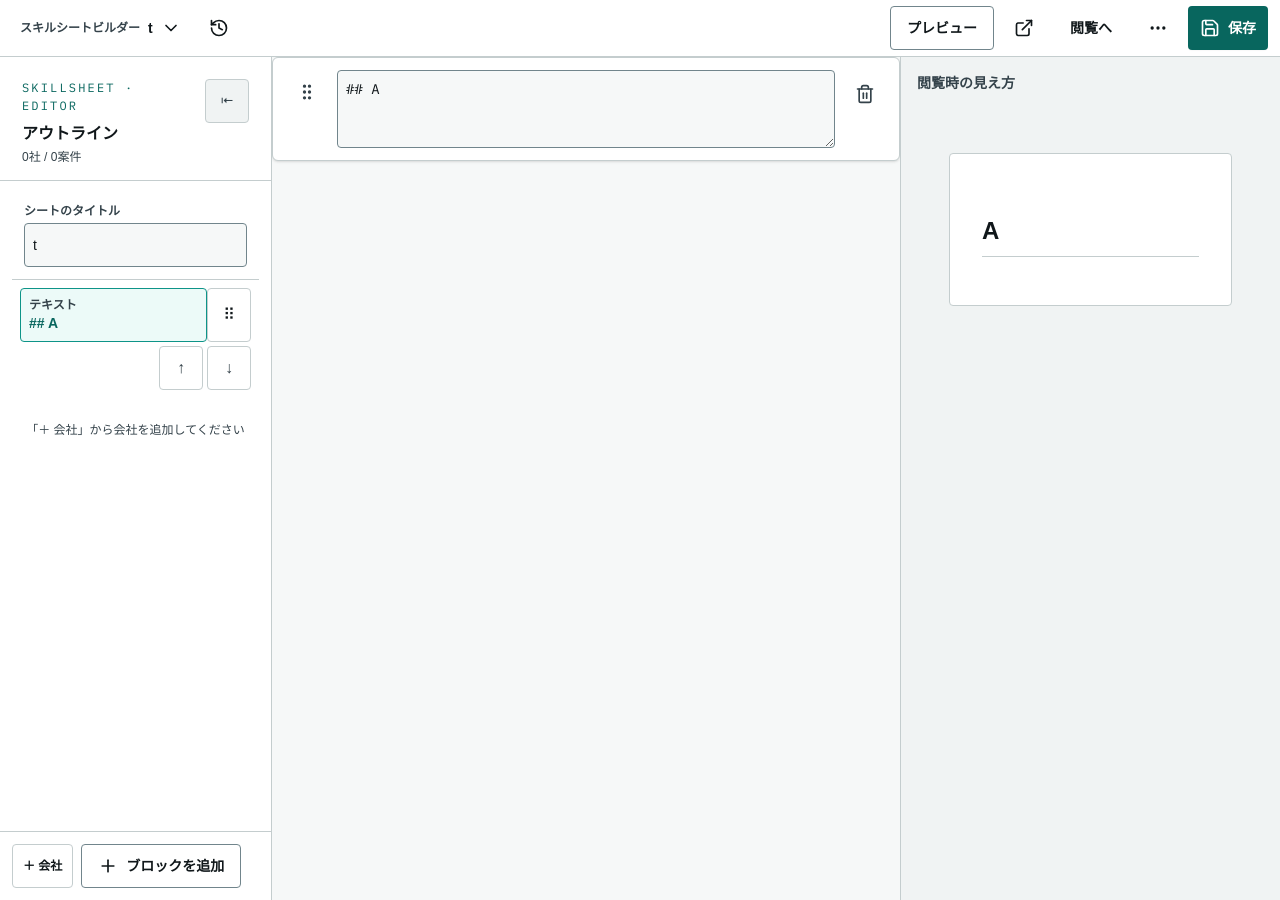
it: BuilderClient › 「テキスト」で空ブロックが増える
The width and height of the screenshot is (1280, 900).
Click the button "ブロックを追加" at (161, 866), box [81,844,241,888]
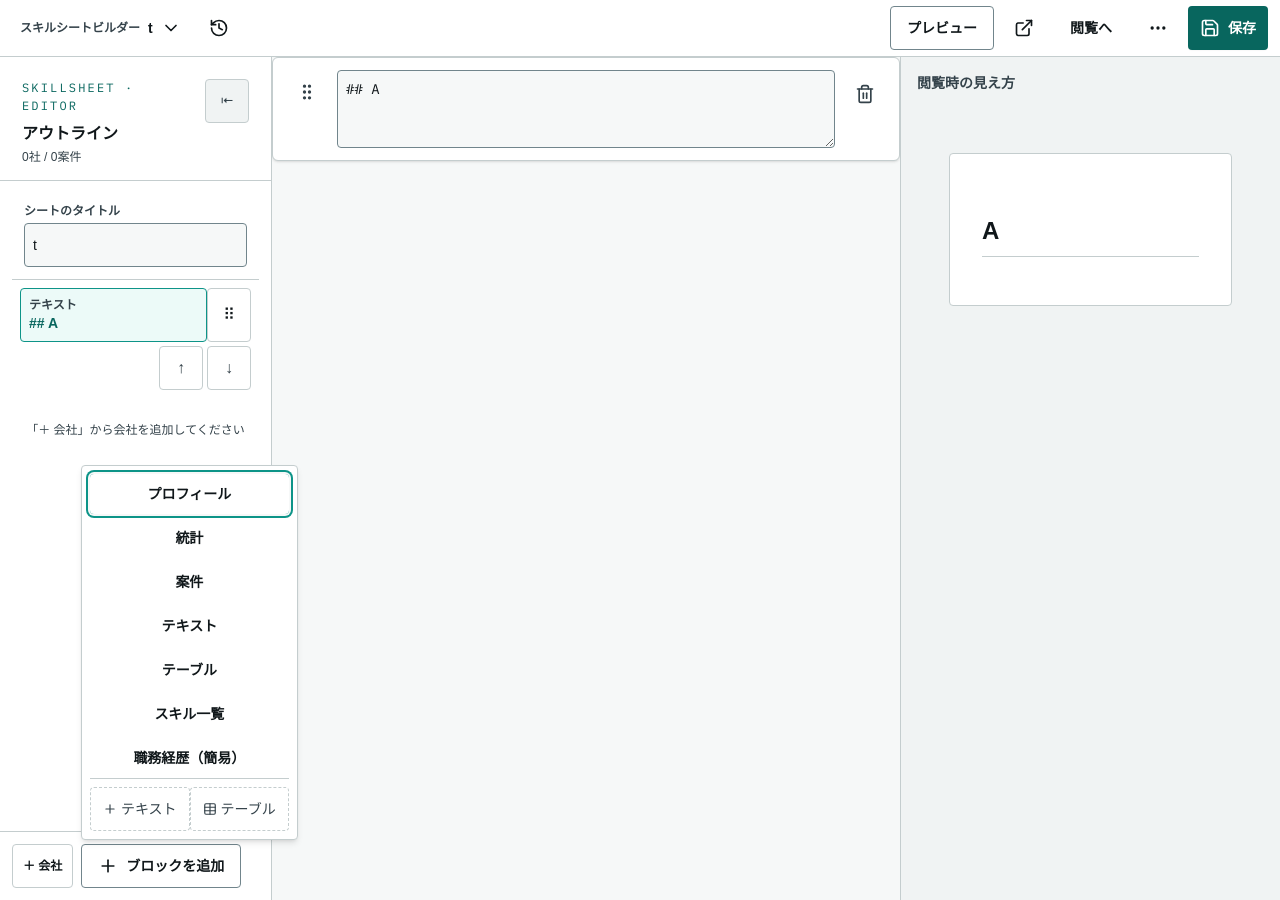
Click the 1st button "テキスト" at (189, 626), box [90,606,289,646]
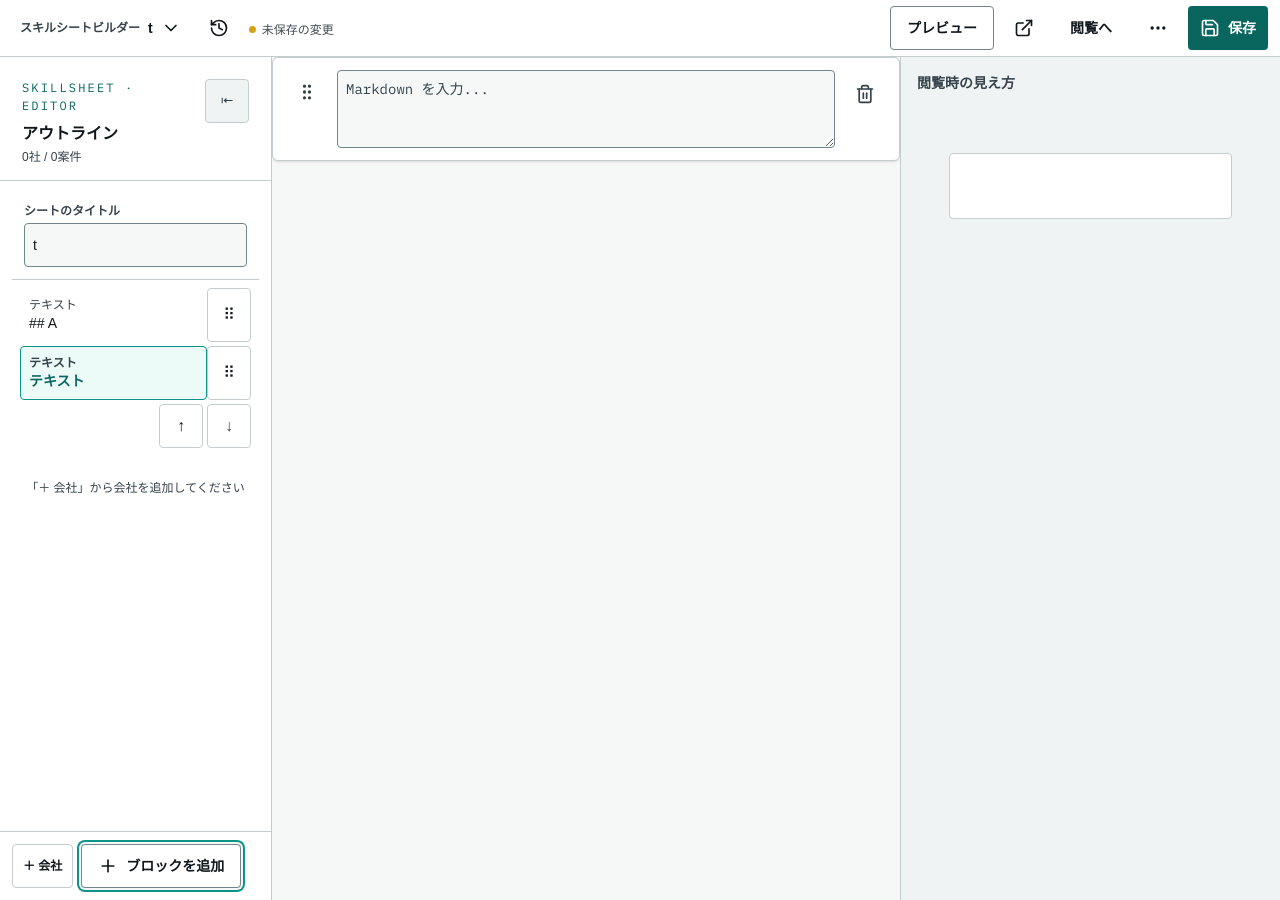
Expected: the text box with placeholder "Markdown を入力..." is empty, [337,70,835,148]
Click the button with aria-label "テキスト: ## A" at (114, 315), box [20,288,207,342]
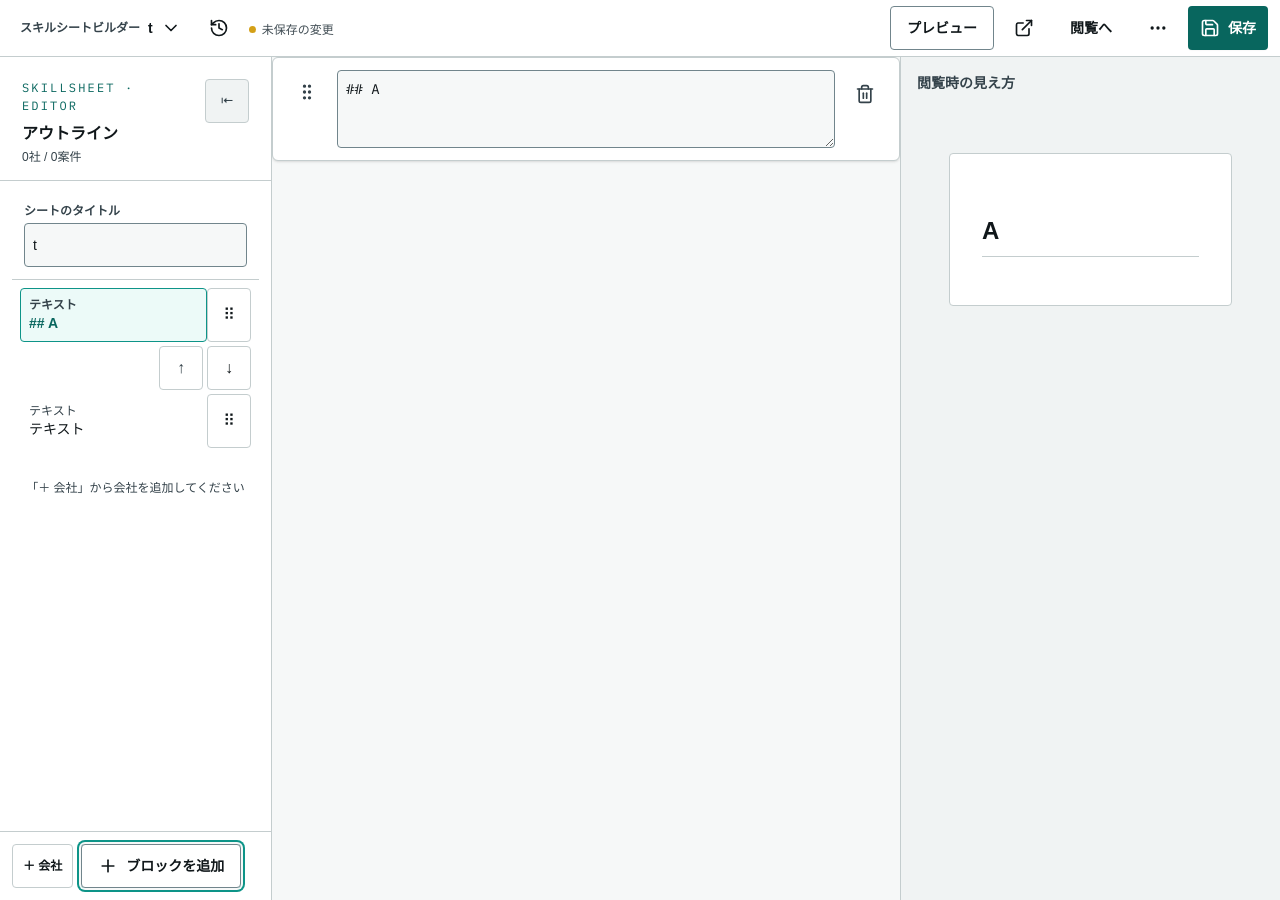
Expected: the text box with placeholder "Markdown を入力..." holds "## A", [337,70,835,148]
